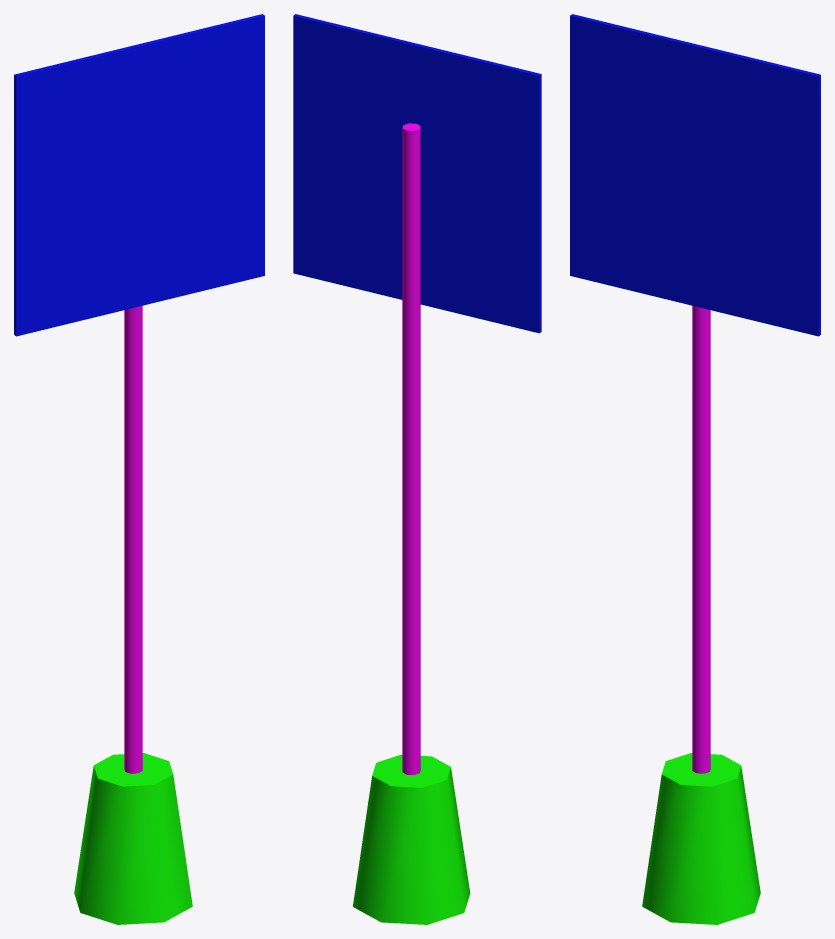
File: No humans sign.FBX
3 views of the same model, side by side, from view 1: azimuth 30°, elevation 25°; view 2: azimuth 150°, elevation 25°; view 3: azimuth 330°, elevation 25° (orthographic).
Parts seen in each view (by area): view 1: No humans allowed; view 2: No humans allowed; view 3: No humans allowed.
Part boxes in pixels (box(x1,y1,x2,y2)): No humans allowed: box(14, 14, 264, 924); No humans allowed: box(293, 14, 541, 924); No humans allowed: box(570, 14, 820, 924).
Bounding box in the file's own units: 60 × 198 × 25.68.
